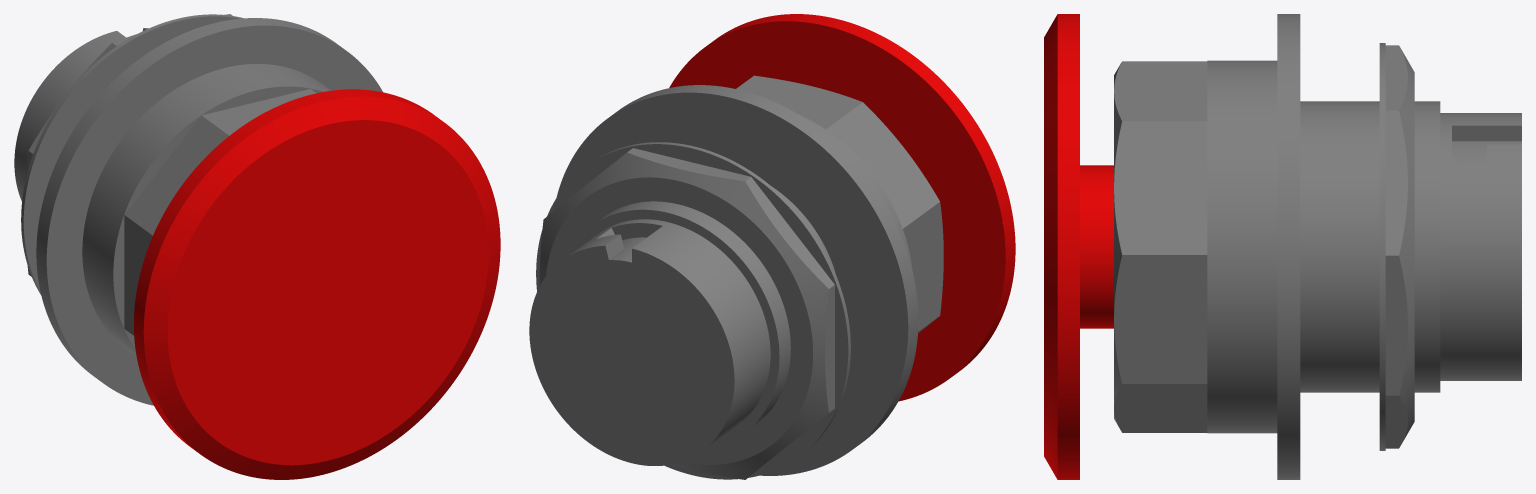
File: Button.fbx
3 views of the same model, side by side, from view 1: azimuth 30°, elevation 25°; view 2: azimuth 150°, elevation 25°; view 3: azimuth 270°, elevation 25° (orthographic). The views are drawn at different scales.
Visible parts, largest first — view 1: uploads-files-94832-Cutler_Hammer_E-Stop (×4); view 2: uploads-files-94832-Cutler_Hammer_E-Stop (×3); view 3: uploads-files-94832-Cutler_Hammer_E-Stop (×4).
Boxes of the visible parts, <box> form: uploads-files-94832-Cutler_Hammer_E-Stop (×4): <box>14,14,500,479</box>; uploads-files-94832-Cutler_Hammer_E-Stop (×3): <box>529,14,1015,479</box>; uploads-files-94832-Cutler_Hammer_E-Stop (×4): <box>1044,14,1521,479</box>.
Size of the model in its own units: 4 by 4 by 4.1.
